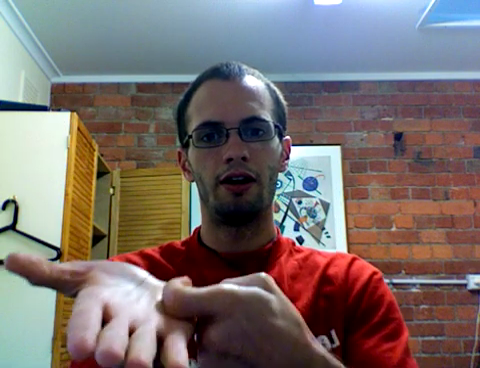R: (2, 235, 326, 368)
